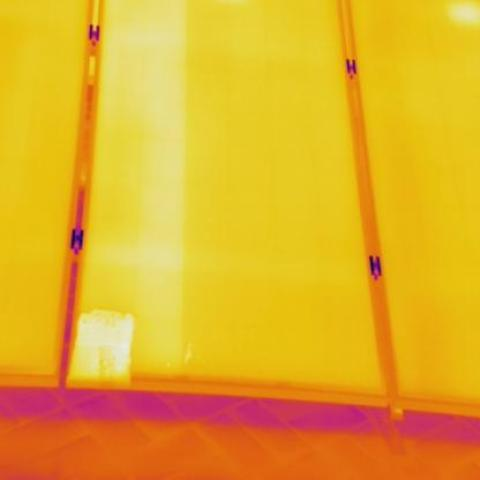fault: (72, 314, 132, 376)
